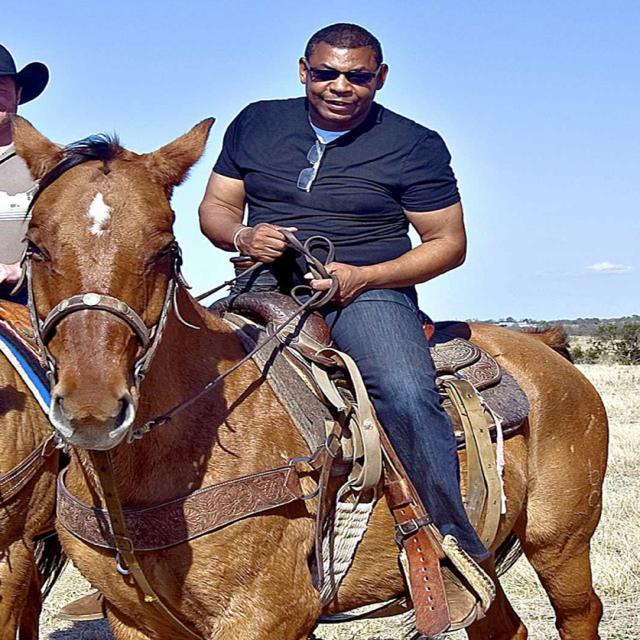Horse: (8, 112, 608, 640), (0, 292, 69, 640)
